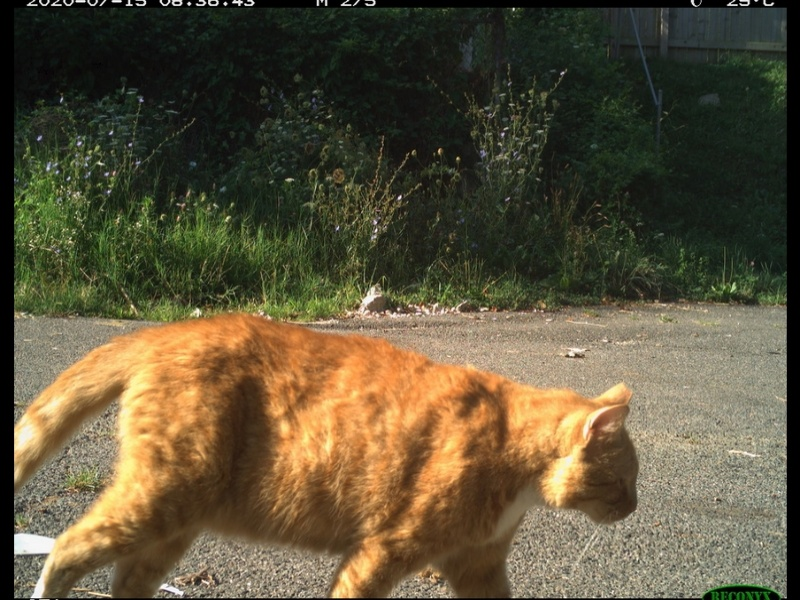cat: (19, 301, 653, 597)
